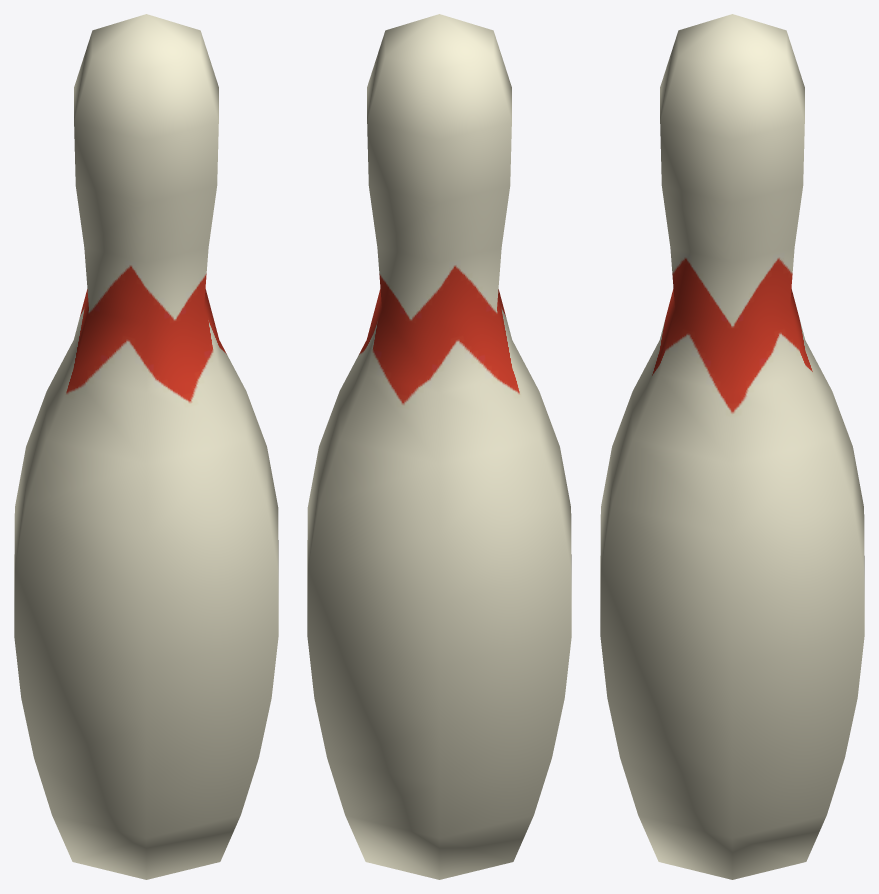
Rendered from bwg_Pin__bwg_pin_166_10.glb.
3 renders of one model, left to right at view 1: azimuth 30°, elevation 25°; view 2: azimuth 150°, elevation 25°; view 3: azimuth 270°, elevation 25°, orthographic.
Parts seen in each view (by area): view 1: polygon0; view 2: polygon0; view 3: polygon0.
Part boxes in pixels (x1,y1,x2,y2): polygon0: [14, 14, 278, 879]; polygon0: [307, 14, 571, 879]; polygon0: [600, 14, 864, 879].
Size of the model in its own units: 1.27 by 3.82 by 1.1.
Materials: 1 (1 with a texture image).
